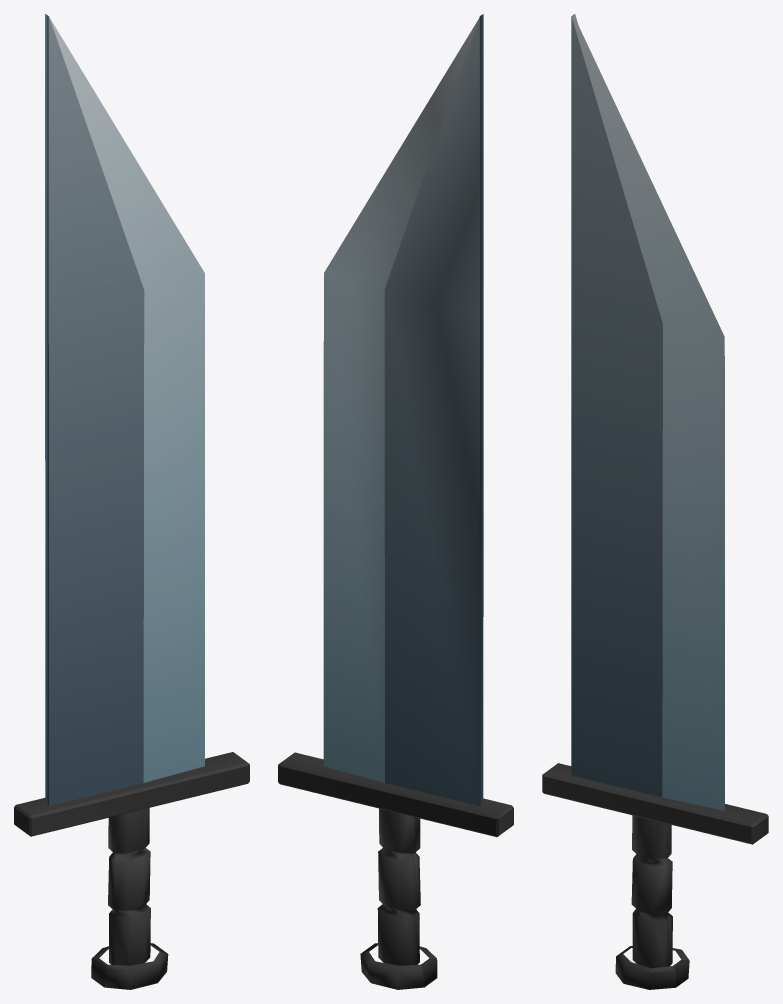
File: sword_F.glb
The picture shows the model from 3 angles, left to right: view 1: azimuth 30°, elevation 25°; view 2: azimuth 150°, elevation 25°; view 3: azimuth 330°, elevation 25°; orthographic projection. The views are drawn at different scales.
Parts seen in each view (by area): view 1: sword_F; view 2: sword_F; view 3: sword_F.
Part boxes in pixels (box(x1,y1,x2,y2)): sword_F: box(14, 14, 249, 989); sword_F: box(278, 14, 513, 989); sword_F: box(542, 14, 768, 989).
Size of the model in its own units: 0.3366 by 1.43 by 0.0893.
Materials: 1 (1 with a texture image).
